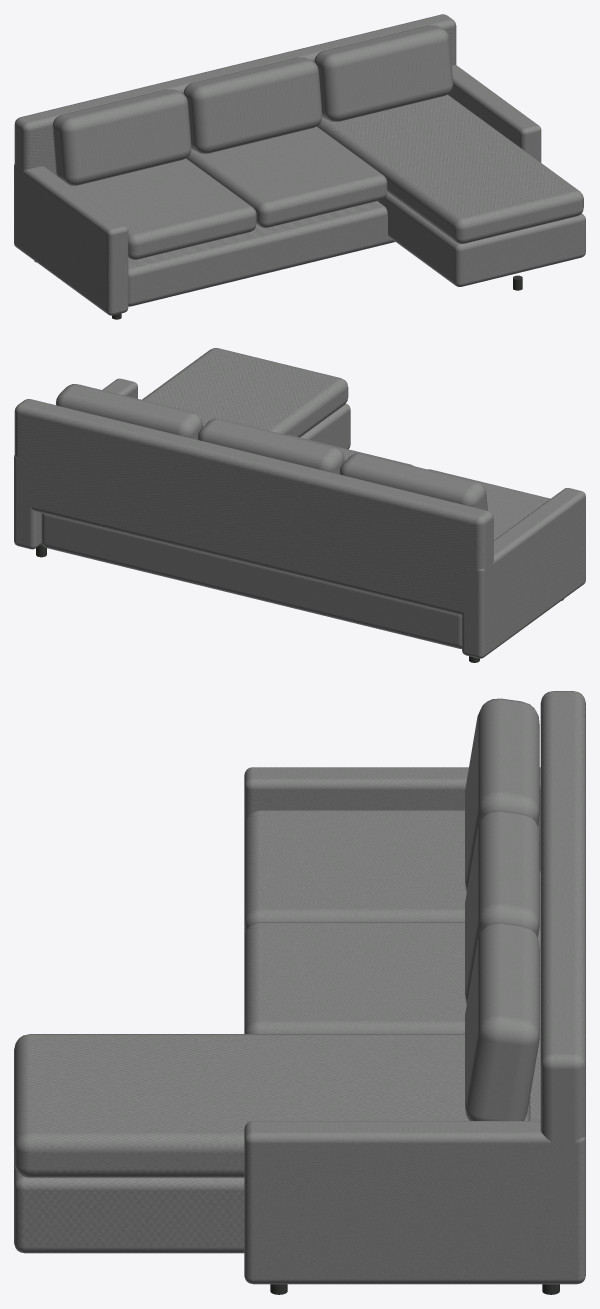
Rendered from vimle.glb.
3 views of the same model, one above another, from view 1: azimuth 30°, elevation 25°; view 2: azimuth 150°, elevation 25°; view 3: azimuth 270°, elevation 25° (orthographic). The views are drawn at different scales.
Visible parts, largest first — view 1: VIMLE 3-seat chaise sofa; view 2: VIMLE 3-seat chaise sofa; view 3: VIMLE 3-seat chaise sofa.
Boxes of the visible parts, x1,y1,x2,y2 form: VIMLE 3-seat chaise sofa: [14, 14, 585, 319]; VIMLE 3-seat chaise sofa: [14, 348, 585, 662]; VIMLE 3-seat chaise sofa: [14, 691, 585, 1294].
Bounding box in the file's own units: 2.52 × 0.83 × 1.64.
2 materials, 2 textured.
